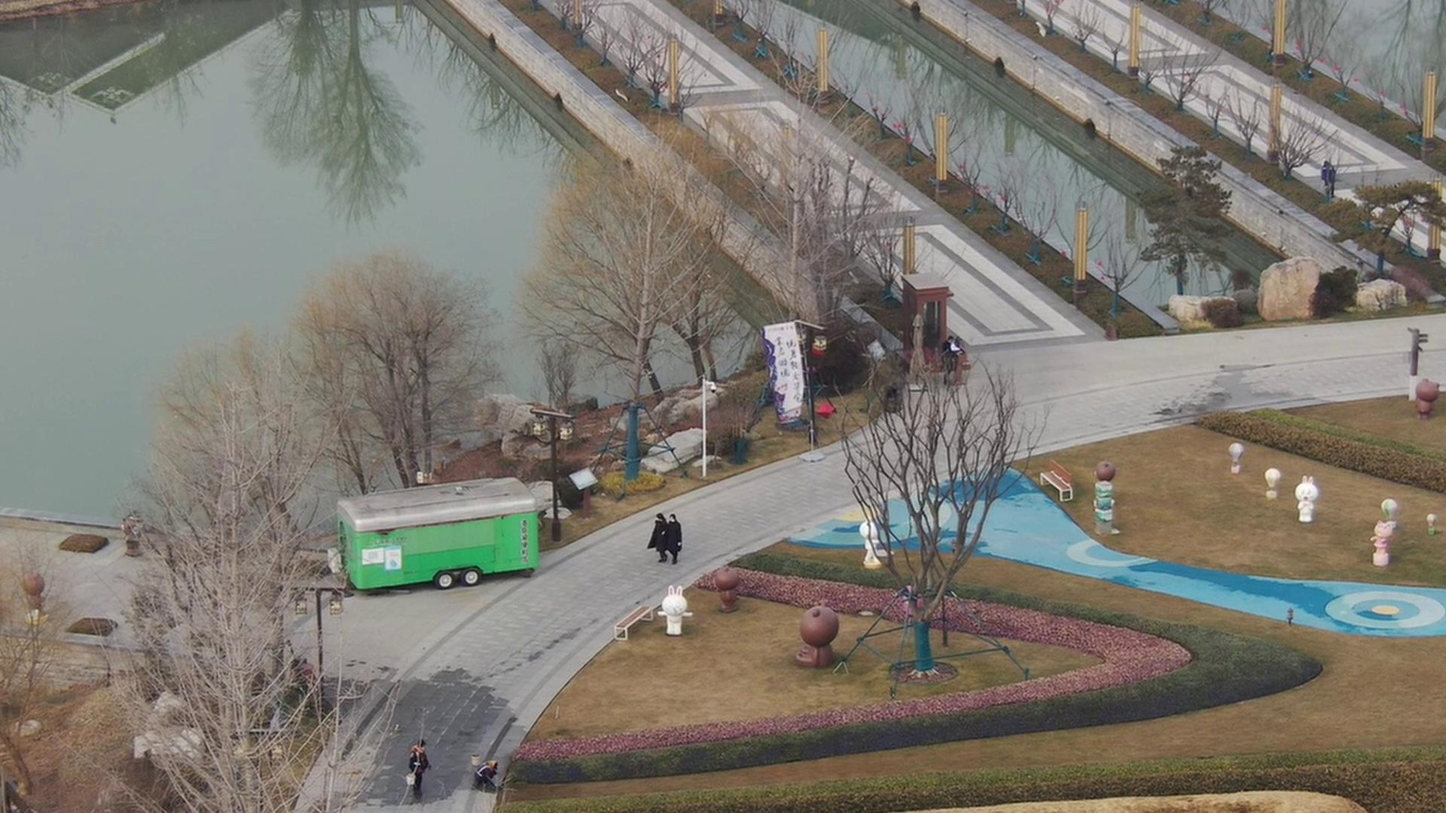class_2: (642, 510, 688, 575)
human: (401, 735, 437, 795), (469, 755, 500, 805)
